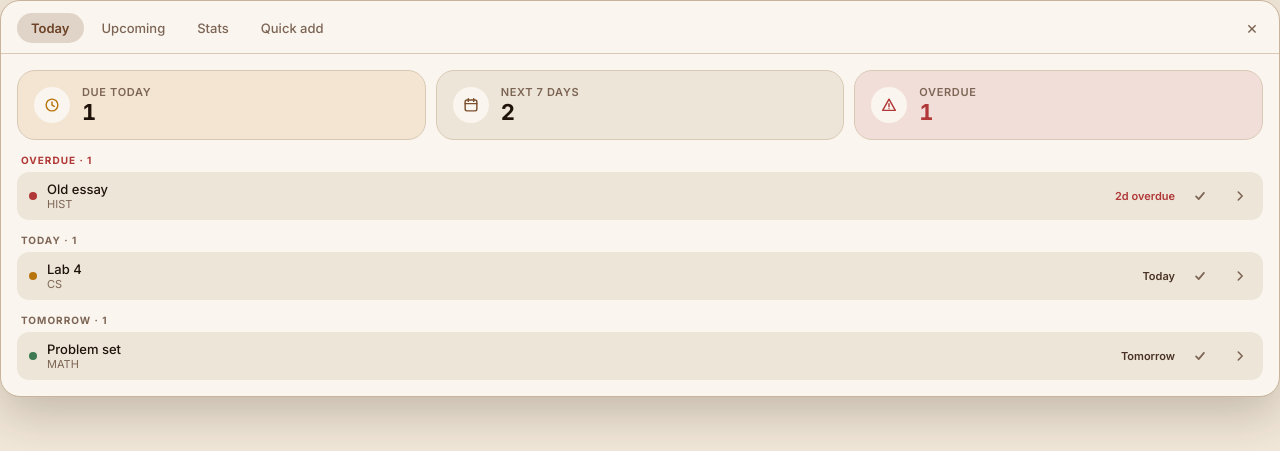
Test: QuickPanel › Quick add requires a title
The width and height of the screenshot is (1280, 451).
Click the tab "Quick add" at [292, 28], box 247,13 -> 338,43
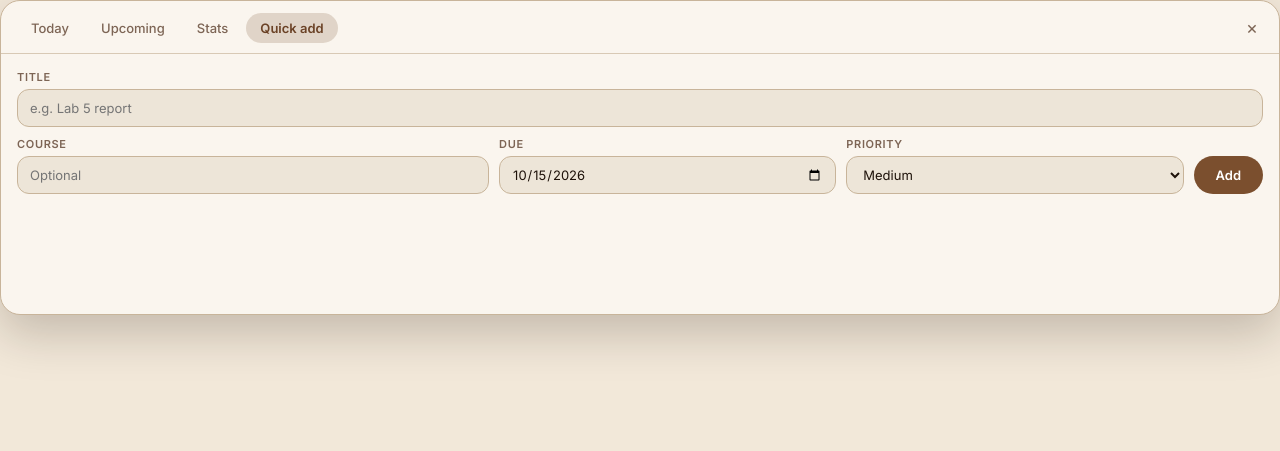
Click the button "Add" at [1228, 175], box 1194,156 -> 1263,194
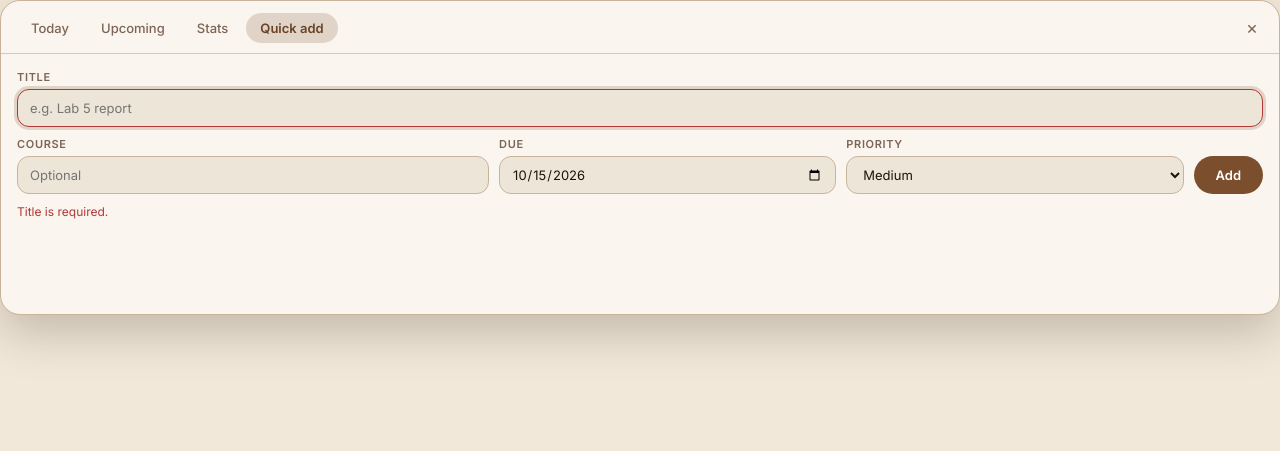
Now the text "Title is required." is shown, box 17,204 -> 108,219
